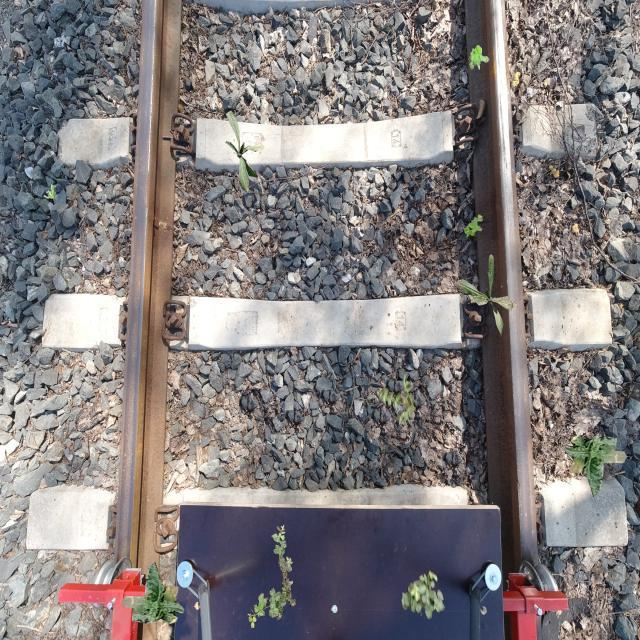Plant: (455, 254, 519, 338), (247, 524, 296, 628), (564, 435, 628, 497), (121, 562, 184, 624), (225, 110, 265, 192), (376, 373, 418, 427), (401, 570, 444, 620), (469, 45, 489, 70), (464, 214, 484, 238), (44, 184, 58, 200)
